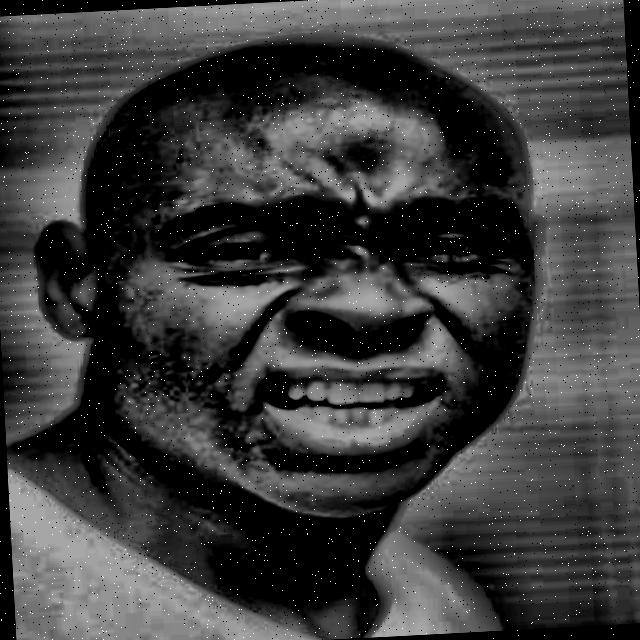disgust: (8, 6, 584, 544)
